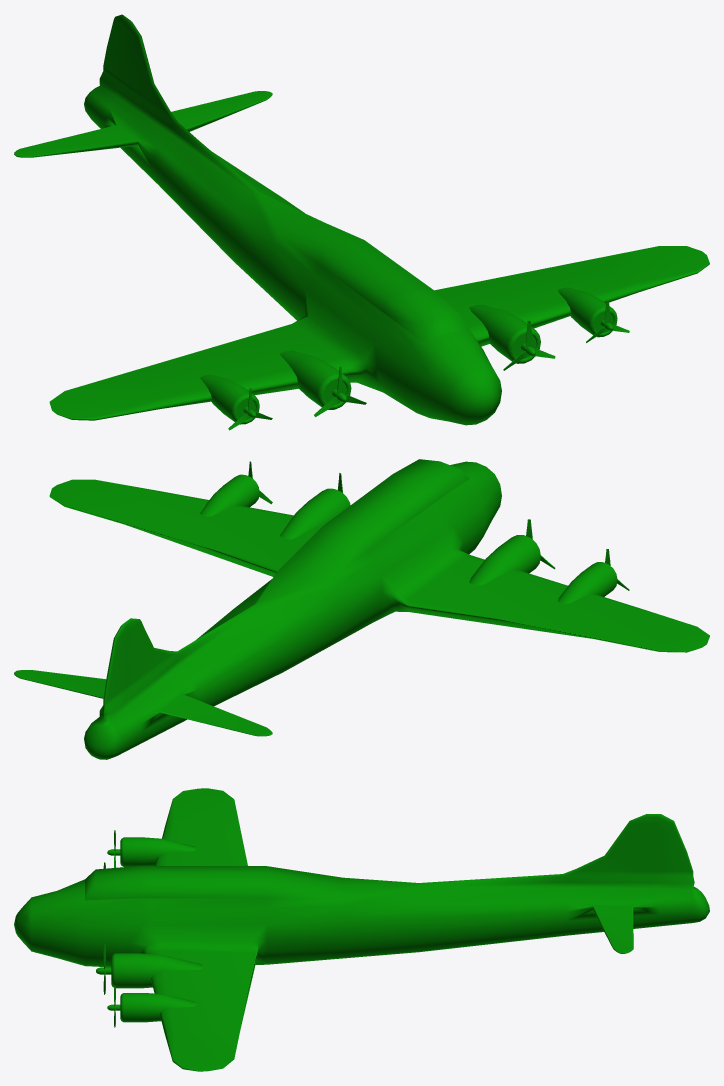
Rendered from MilitaryPlane.fbx.
The picture shows the model from 3 angles, top to bottom: view 1: azimuth 30°, elevation 25°; view 2: azimuth 150°, elevation 25°; view 3: azimuth 270°, elevation 25°; orthographic projection. The views are drawn at different scales.
Visible parts, largest first — view 1: pCylinder63; view 2: pCylinder63; view 3: pCylinder63.
Boxes of the visible parts, x1,y1,x2,y2 form: pCylinder63: (14,14,709,430); pCylinder63: (14,459,709,759); pCylinder63: (14,788,709,1071).
Size of the model in its own units: 6.83 by 1.7 by 7.12.
